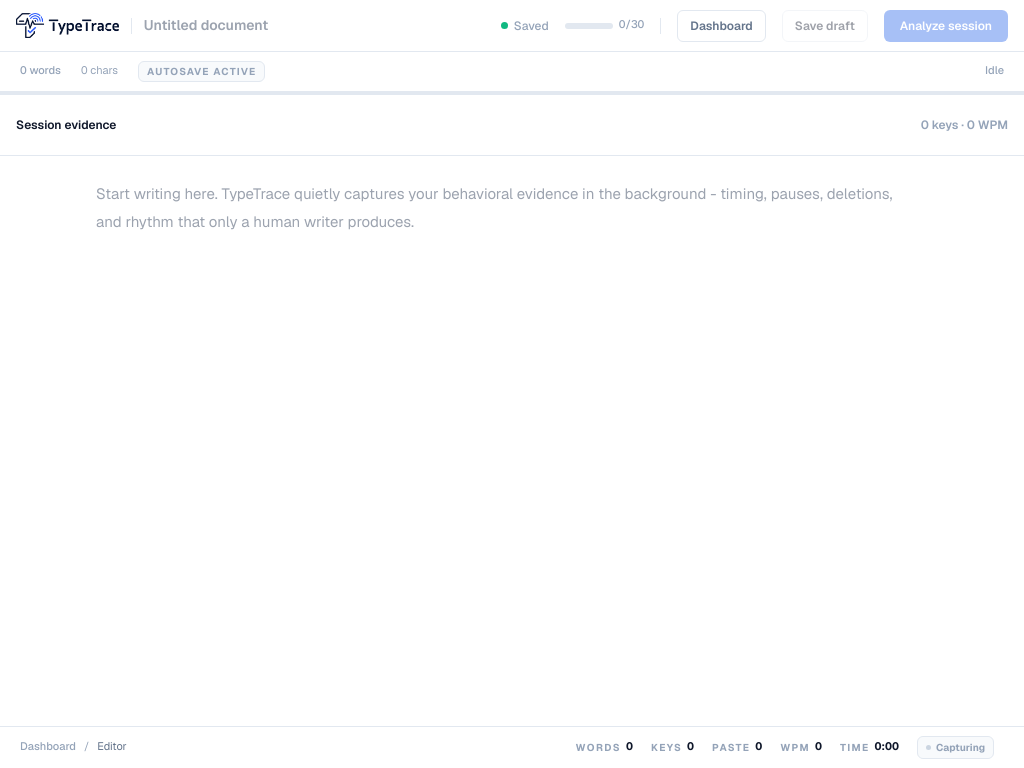
Scenario: EditorPage final behavioral closure › autosaves an active draft and exposes pending synchronization as local-safe state
Type "Autosave title" into the field named "Document title" at (239, 26), box 144,15 -> 335,36
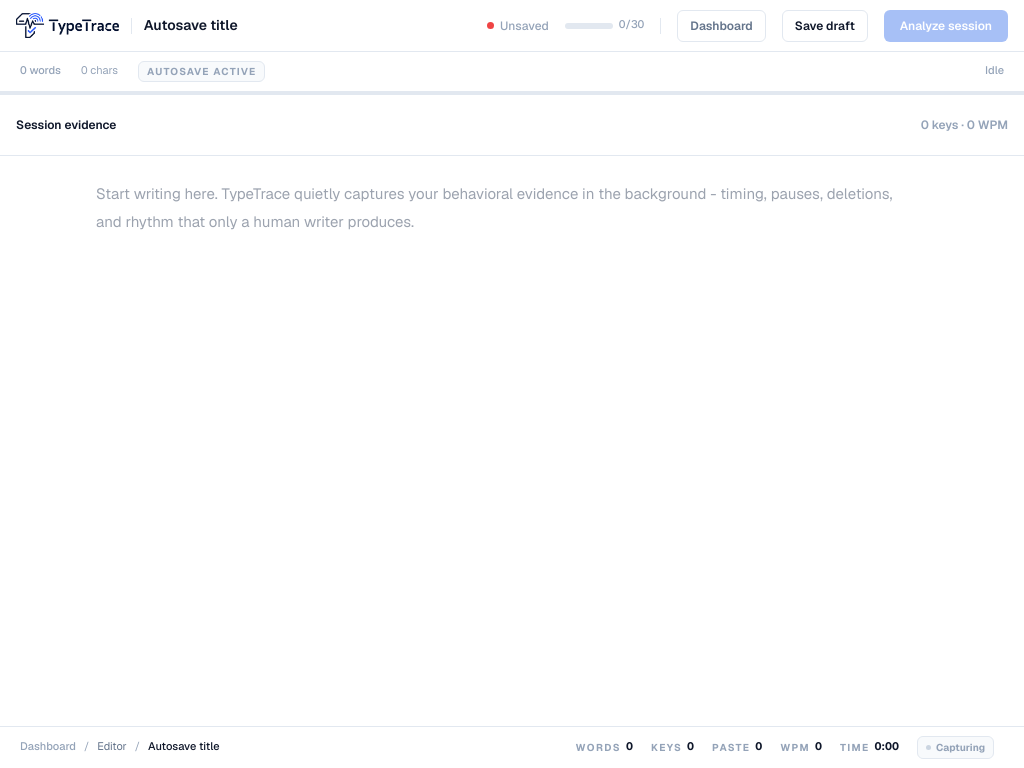
Replace the text in the text box named "Writing workspace" with "Autosave body" at (507, 420), box 96,180 -> 918,660
Wait 360 ms
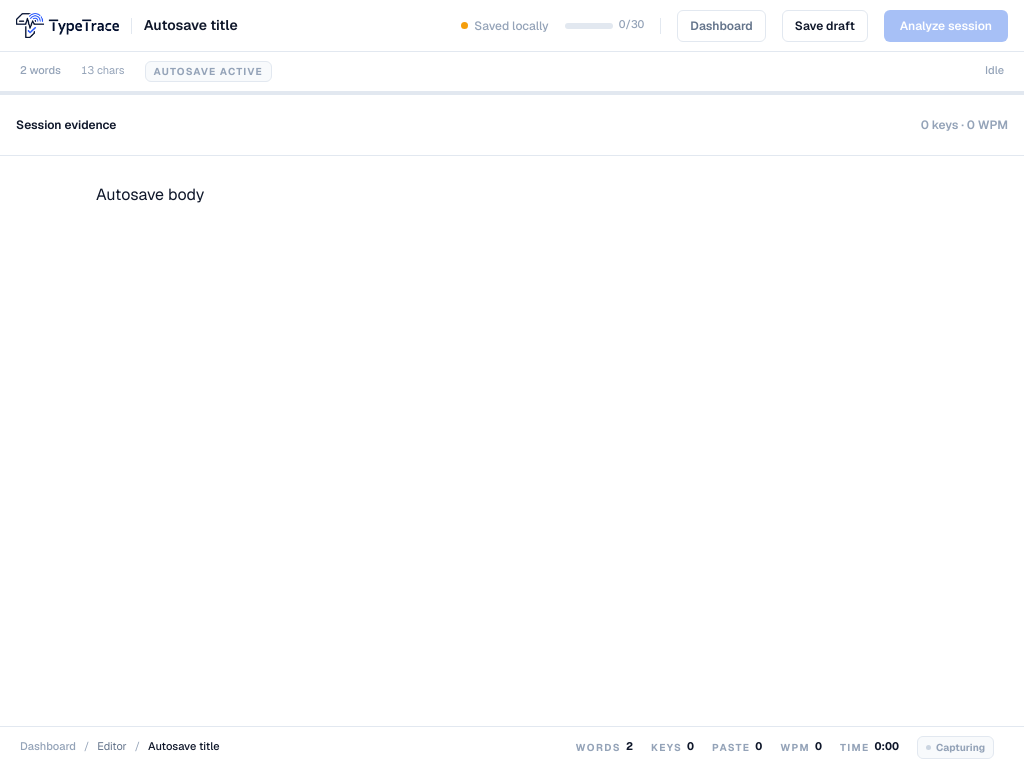
Result: the text "Saved locally" is shown at 474,16 -> 549,34
